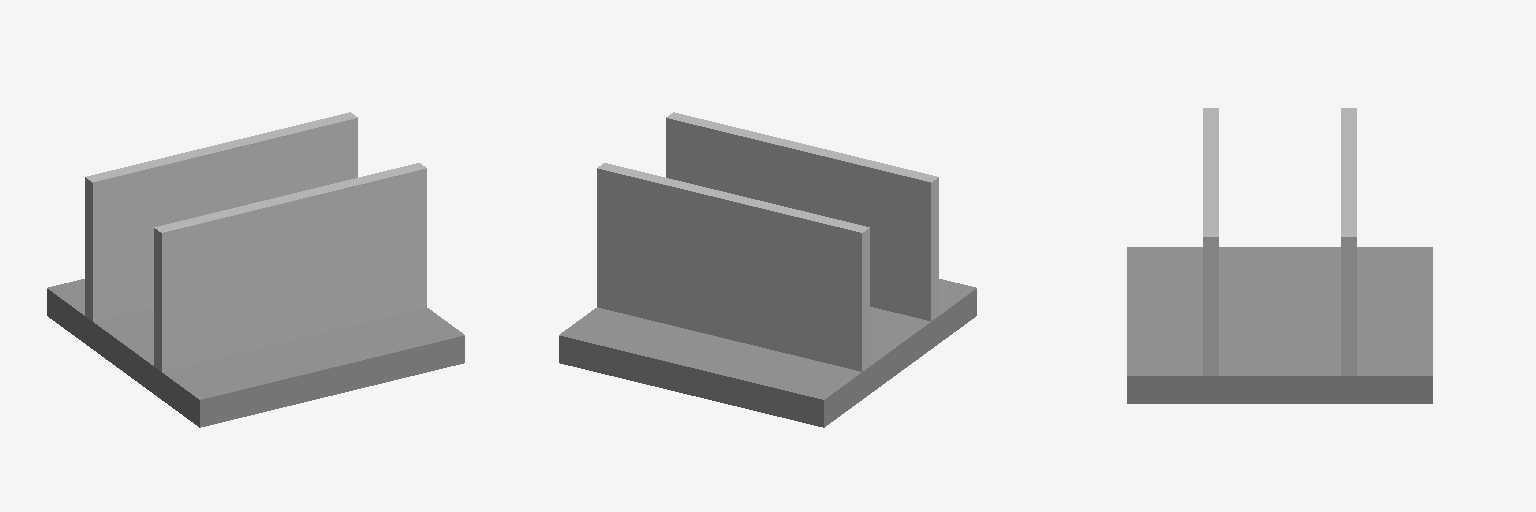
File: hallway-thin_1.obj
3 views of the same model, side by side, from view 1: azimuth 30°, elevation 25°; view 2: azimuth 150°, elevation 25°; view 3: azimuth 270°, elevation 25° (orthographic).
Visible parts, largest first — view 1: Cube.002, Cube, Cube.001_Cube.006; view 2: Cube.001_Cube.006, Cube, Cube.002; view 3: Cube, Cube.001_Cube.006, Cube.002.
Part boxes in pixels (x1,y1,x2,y2): Cube.002: (154, 163, 426, 371); Cube: (47, 279, 464, 427); Cube.001_Cube.006: (85, 112, 357, 320); Cube.001_Cube.006: (597, 163, 869, 371); Cube: (559, 279, 976, 427); Cube.002: (666, 112, 938, 320); Cube: (1127, 247, 1432, 403); Cube.001_Cube.006: (1341, 108, 1356, 375); Cube.002: (1203, 108, 1218, 375).
Bounding box in the file's own units: 10 × 6 × 10.